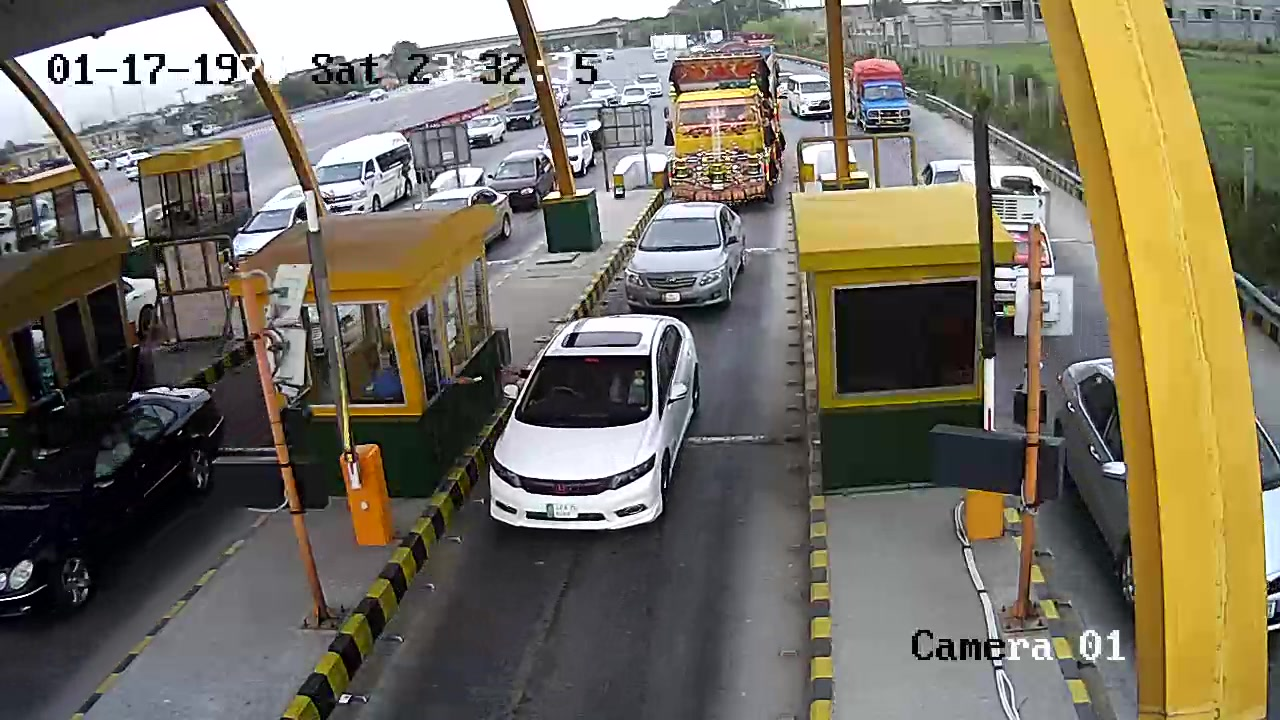F1: (488, 317, 708, 544)
